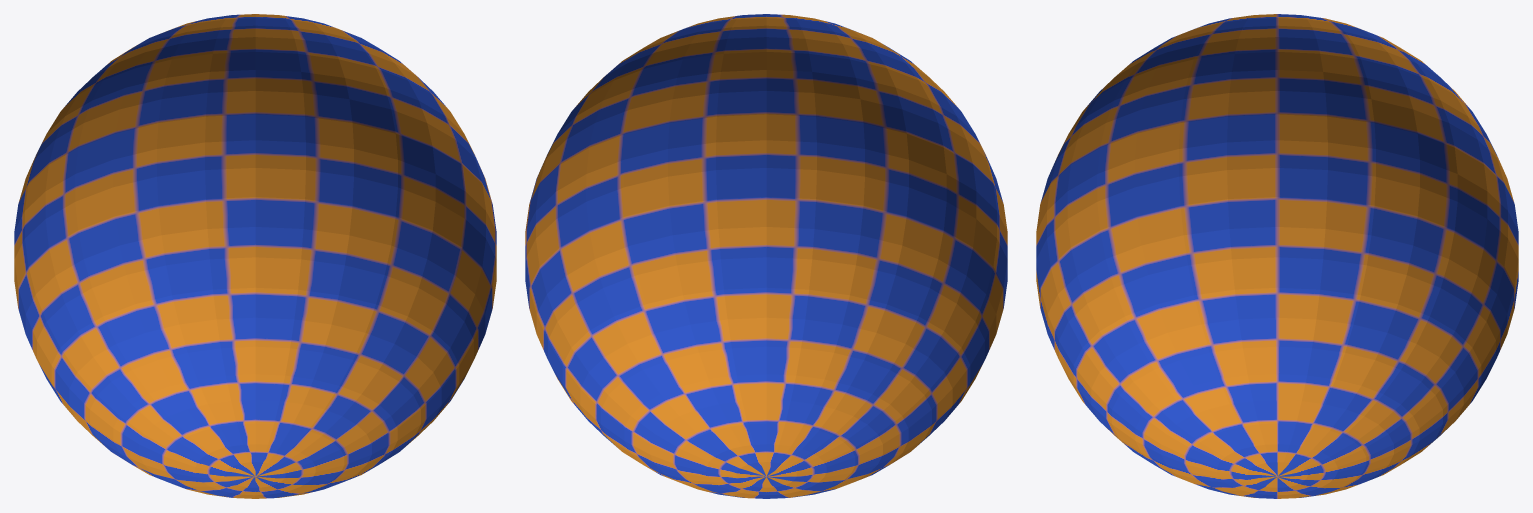
The picture shows the model from 3 angles, left to right: view 1: azimuth 30°, elevation 25°; view 2: azimuth 150°, elevation 25°; view 3: azimuth 270°, elevation 25°; orthographic projection.
Size of the model in its own units: 2 by 2 by 1.99.
Materials: 1 (1 with a texture image).
